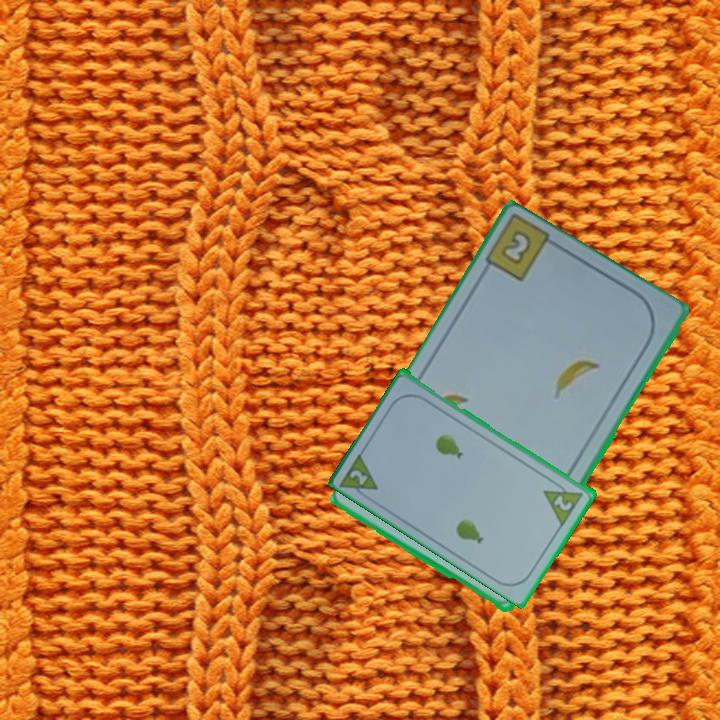2b: (497, 226, 535, 269)
2p: (540, 476, 587, 528), (346, 466, 371, 488)
